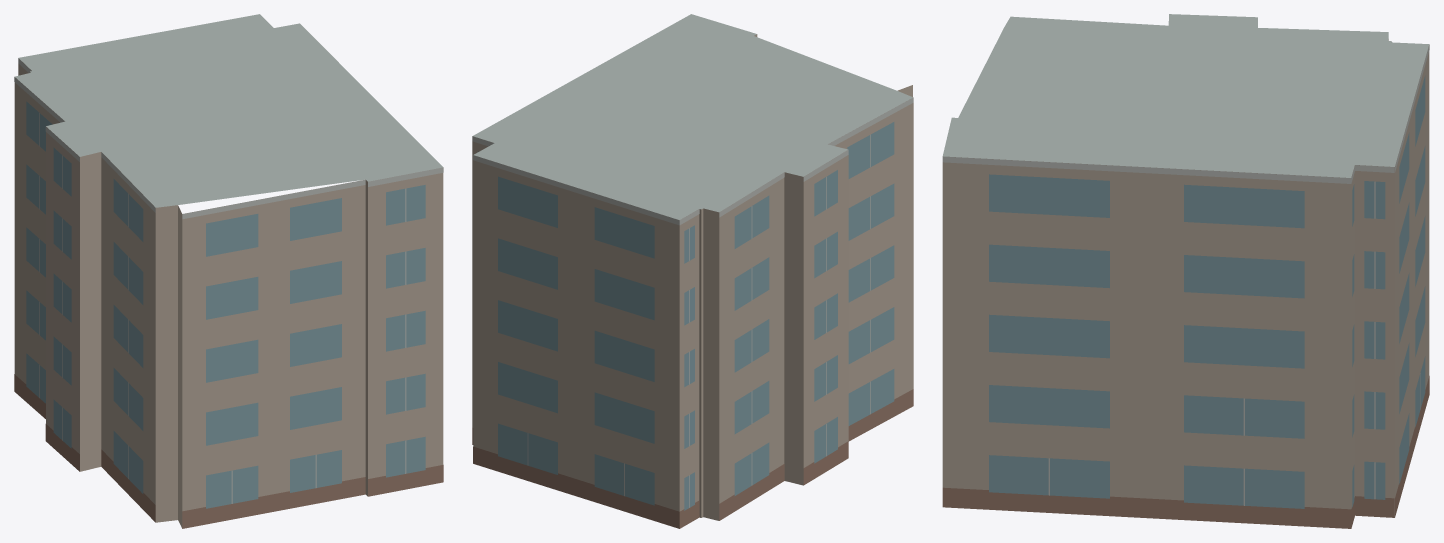
The model's file is survey-upis-32639472.glb.
The picture shows the model from 3 angles, left to right: view 1: azimuth 30°, elevation 25°; view 2: azimuth 150°, elevation 25°; view 3: azimuth 270°, elevation 25°; orthographic projection. The views are drawn at different scales.
Parts seen in each view (by area): view 1: survey-upis-32639472.tmp; view 2: survey-upis-32639472.tmp; view 3: survey-upis-32639472.tmp.
Part boxes in pixels (x1,y1,x2,y2): survey-upis-32639472.tmp: (14,14,443,528); survey-upis-32639472.tmp: (472,14,913,528); survey-upis-32639472.tmp: (942,14,1429,528).
Bounding box in the file's own units: 14.37 × 14.32 × 18.02.
